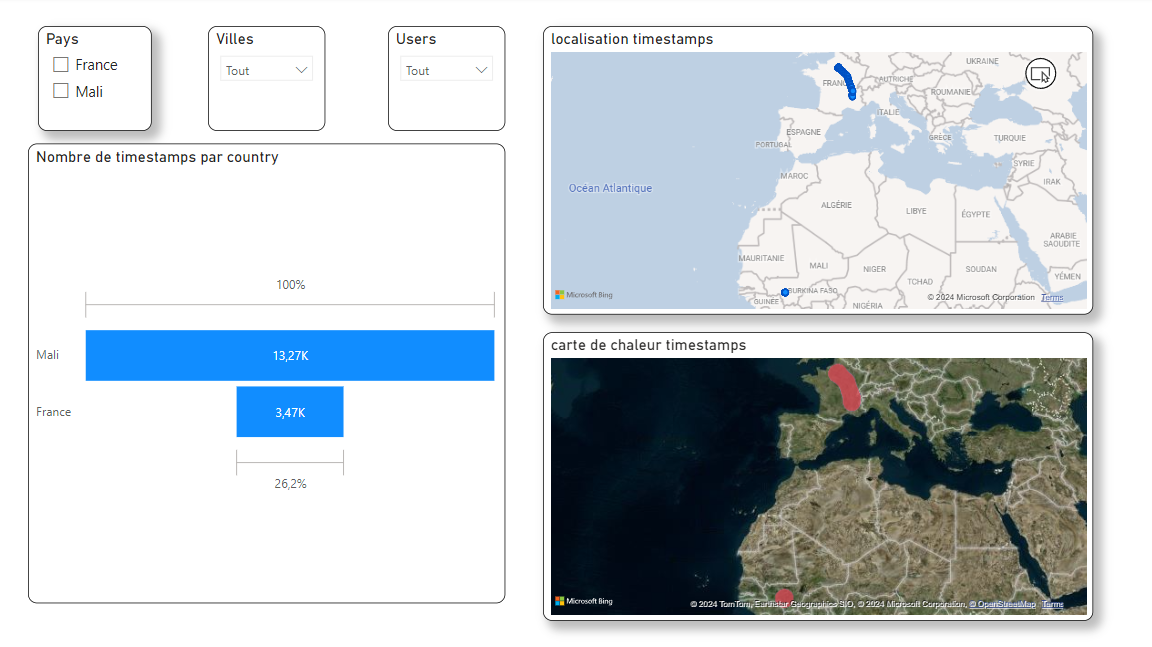

Layout of this report page (visuals, bound fields, positions):
{"tool":"powerbi","page":{"name":"Spatial","canvas":[1280,720],"ordinal":1},"visuals":[{"type":"slicer","title":"Pays","fields":{"Values":["df_events.country"]},"box":[49.4,32.9,124.9,115.3],"z":0},{"type":"map","title":"localisation timestamps","fields":{"X":["df_events.longitude"],"Y":["df_events.latitude"]},"box":[603.8,32.9,603.8,317],"z":1000},{"type":"slicer","title":"Users","fields":{"Values":["df_events.users"]},"box":[433.6,32.9,129,115.3],"z":2000},{"type":"funnel","fields":{"Y":["Count(df_events.timestamps)"],"Category":["df_events.country"]},"box":[38.4,161.9,524.2,505],"z":3000},{"type":"slicer","title":"Villes","fields":{"Values":["df_events.city"]},"box":[236,32.9,129,115.3],"z":3001},{"type":"map","title":"carte de chaleur timestamps","fields":{"X":["df_events.longitude"],"Y":["df_events.latitude"]},"box":[603.8,369.1,603.8,317],"z":3002}]}

Visuals, with their boxes in screenshot pixels (x1, y1, x2, y2), scaled from the page's 1280x720 canvas onto the 1152x647 screenshot:
"Pays" slicer: Rect(44, 30, 157, 133)
"localisation timestamps" map: Rect(543, 30, 1087, 314)
"Users" slicer: Rect(390, 30, 506, 133)
funnel - Count(df_events.timestamps) x df_events.country: Rect(35, 145, 506, 599)
"Villes" slicer: Rect(212, 30, 328, 133)
"carte de chaleur timestamps" map: Rect(543, 332, 1087, 617)
